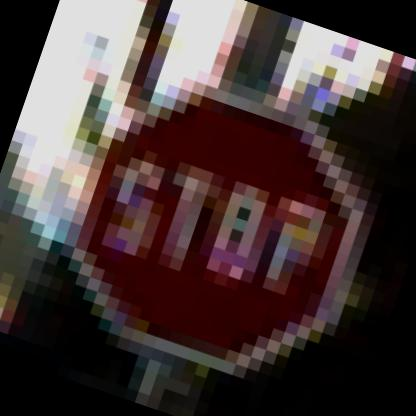stop: (39, 59, 402, 413)
